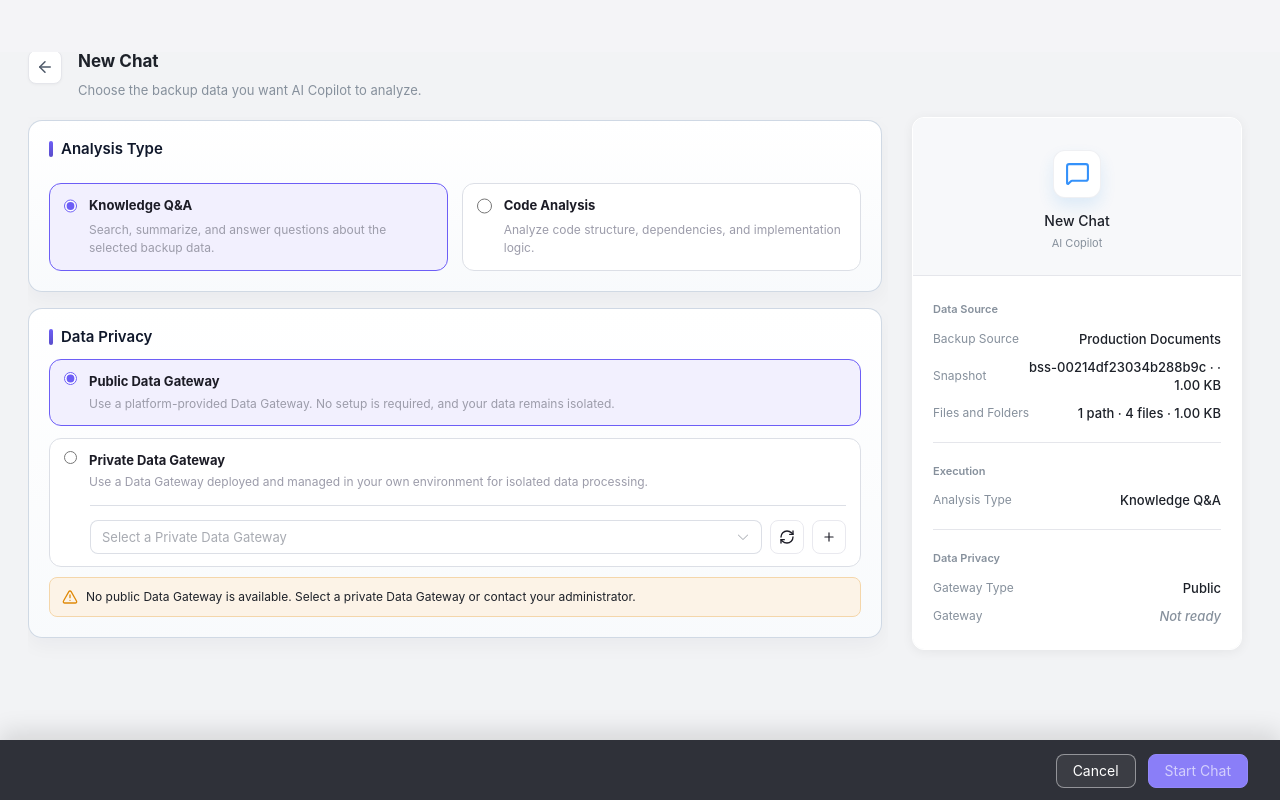
Test: New Chat Public Data Gateway warning › switches to the Private Gateway blocker without retaining the Public warning
(page scrolled)
expect the message with class "new-chat-gateway-warning" is shown: met, box 49,577 -> 861,617
Click the 4th radio button. click: click(70, 457)
box: 64,450 -> 77,464
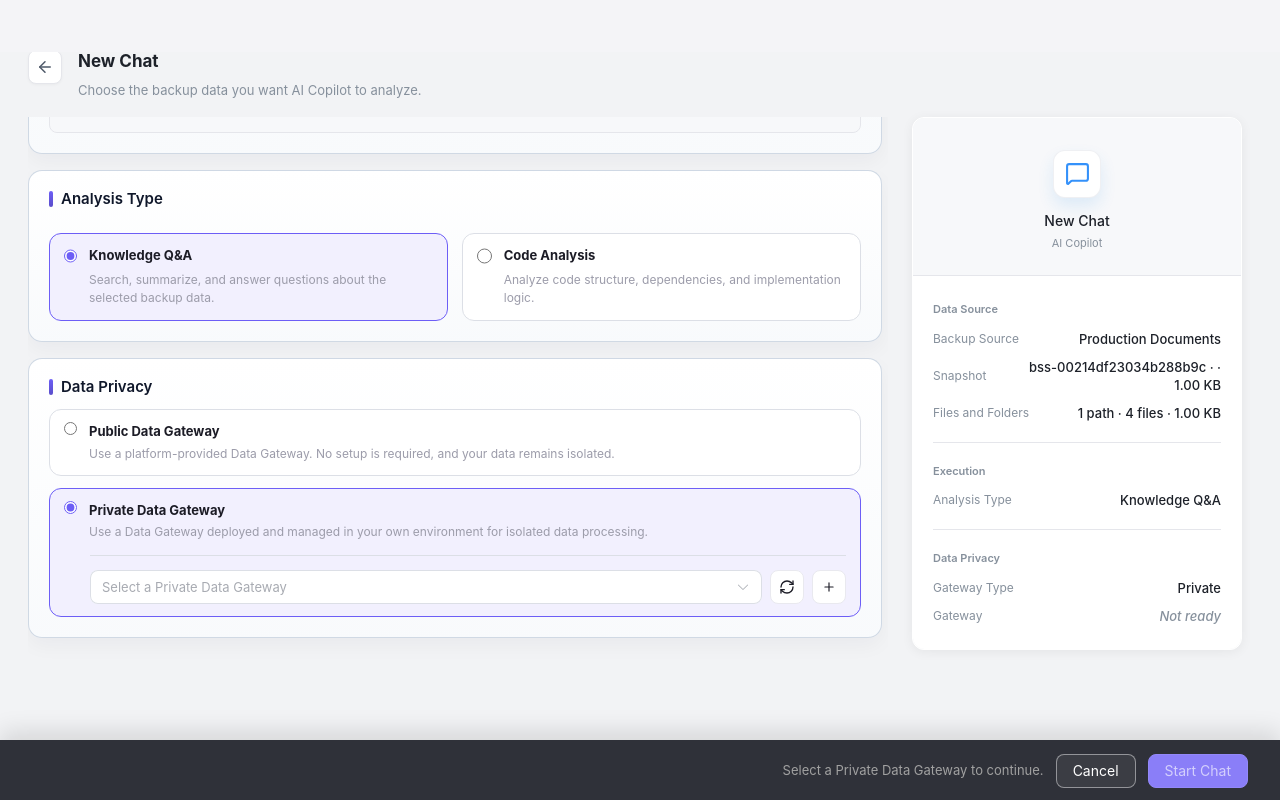
expect the button "Start Chat" is disabled: met, box 1148,754 -> 1248,788
expect the text with class "form-submit-hint" reads "Select a Private Data Gateway to continue.": met, box 783,762 -> 1044,778
